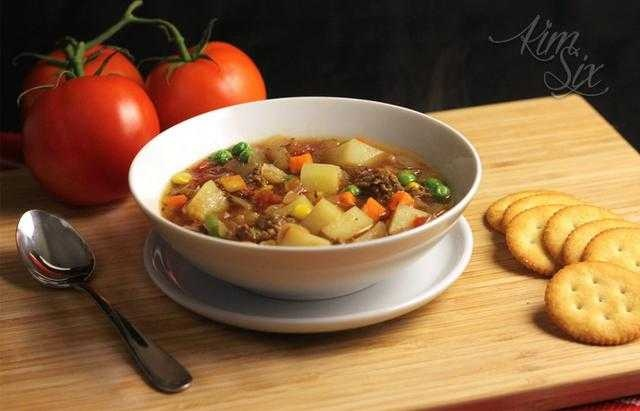soup: (170, 109, 428, 243)
